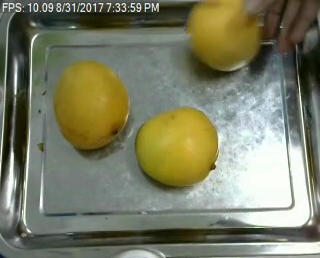Mango: (135, 105, 217, 186), (55, 62, 129, 147), (187, 1, 260, 70)
